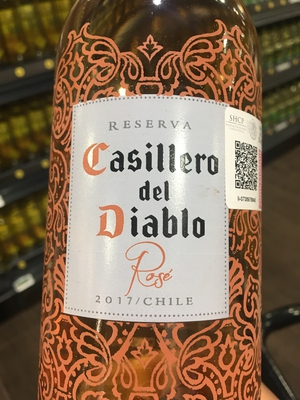casillero del diablo rose: (39, 4, 277, 392)
